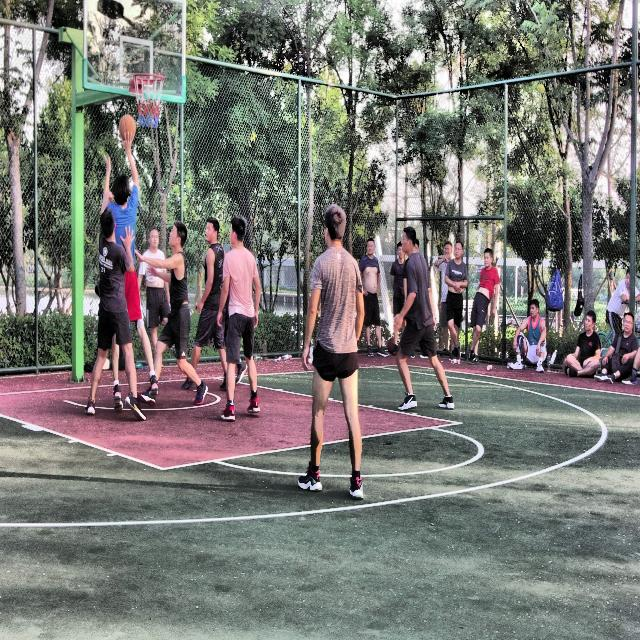board: (119, 114, 136, 141)
rim: (135, 71, 165, 125)
